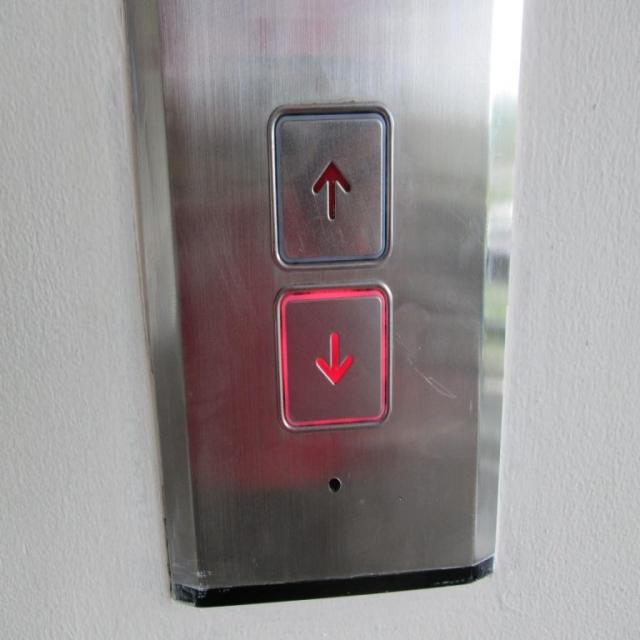down: (274, 279, 392, 430)
up: (266, 103, 394, 269)
